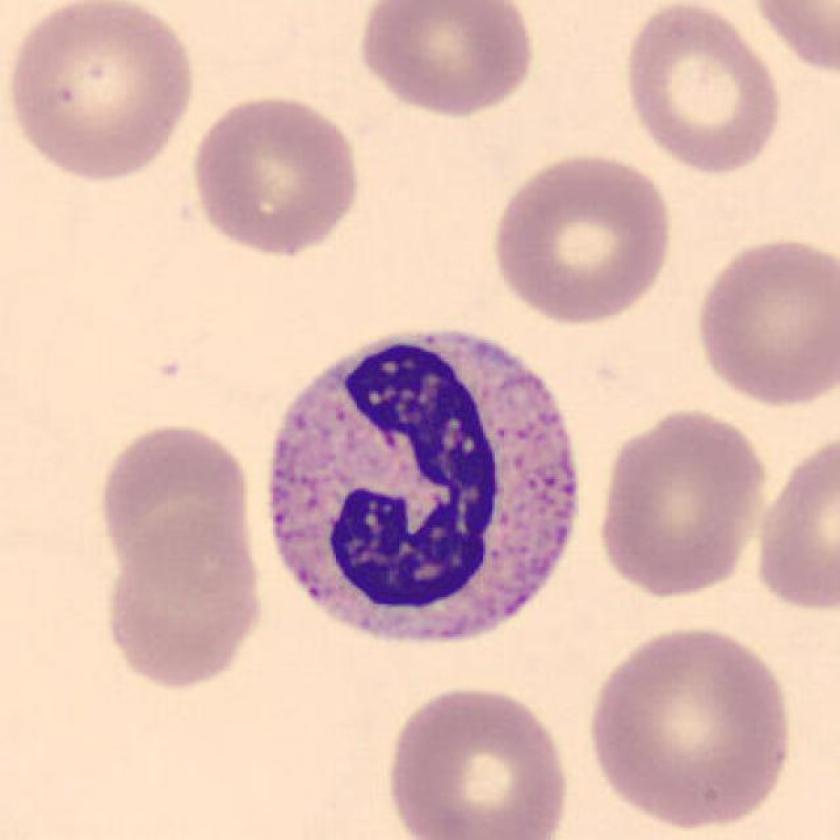neutrophil: (266, 332, 576, 638)
